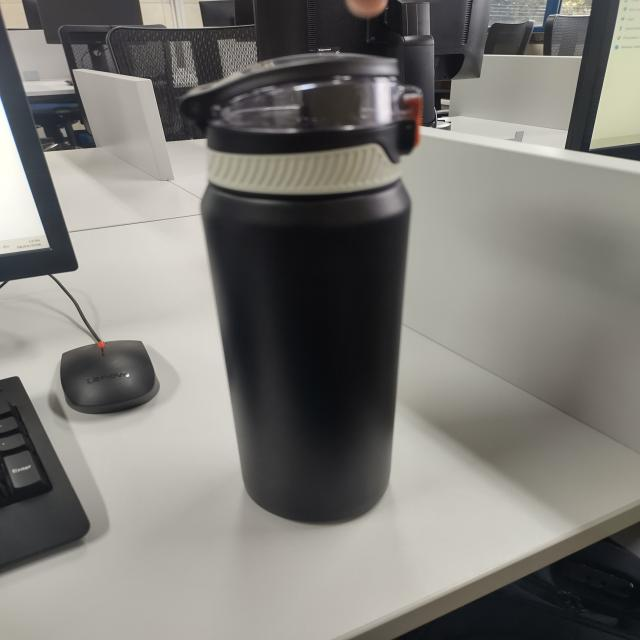Garrafa: (175, 36, 487, 537)
